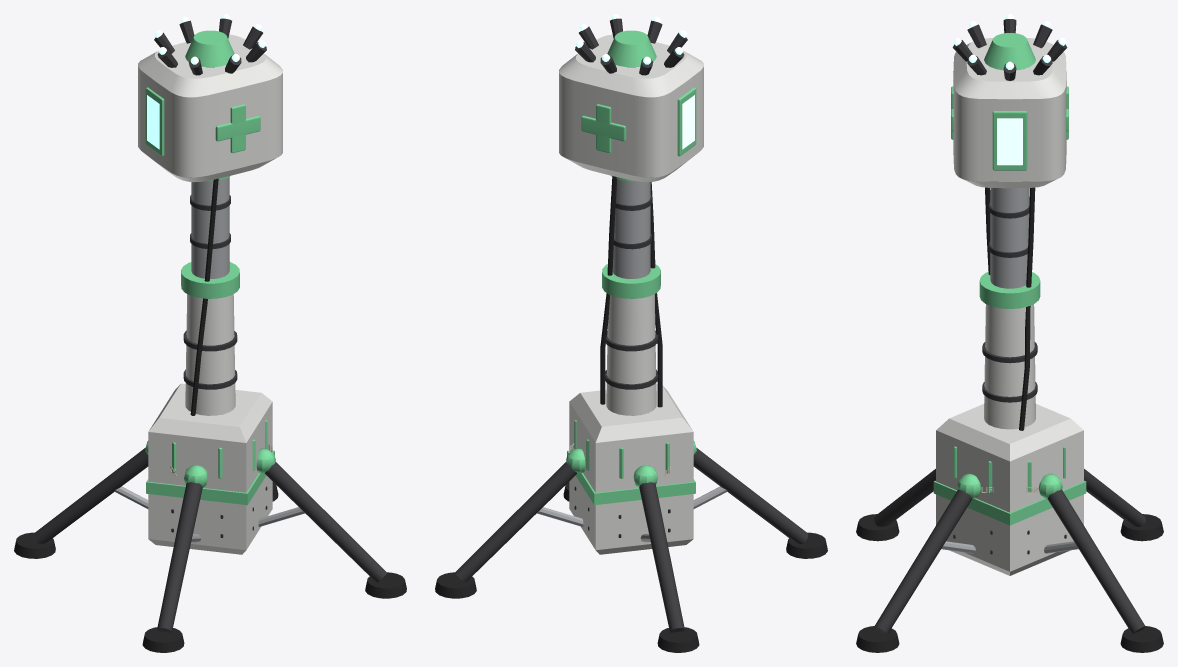
File: lifevendor.glb
3 renders of one model, left to right at view 1: azimuth 30°, elevation 25°; view 2: azimuth 150°, elevation 25°; view 3: azimuth 270°, elevation 25°, orthographic. The views are drawn at different scales.
Parts seen in each view (by area): view 1: Body; view 2: Body; view 3: Body.
Part boxes in pixels (x1,y1,x2,y2): Body: (14, 14, 406, 652); Body: (435, 14, 827, 652); Body: (856, 14, 1163, 652).
Bounding box in the file's own units: 0.7081 × 1.39 × 0.7081.
